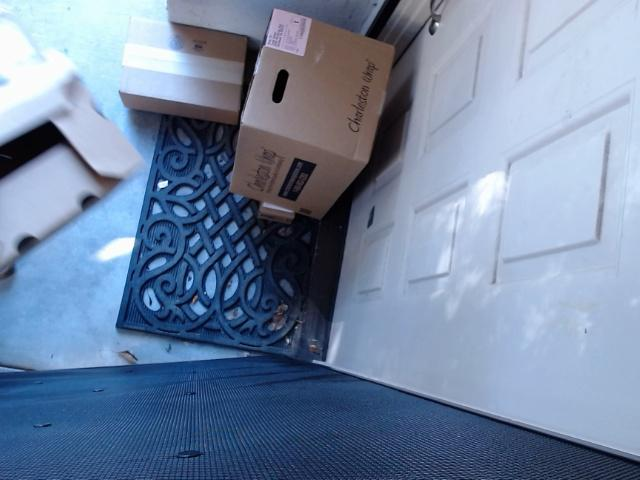box: (237, 10, 392, 225), (0, 52, 147, 269), (109, 3, 253, 134)
